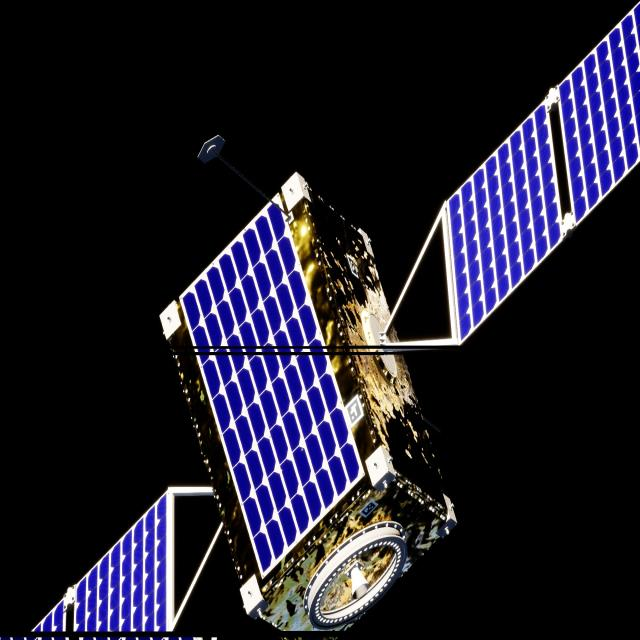medium_debris: (33, 2, 640, 636)
